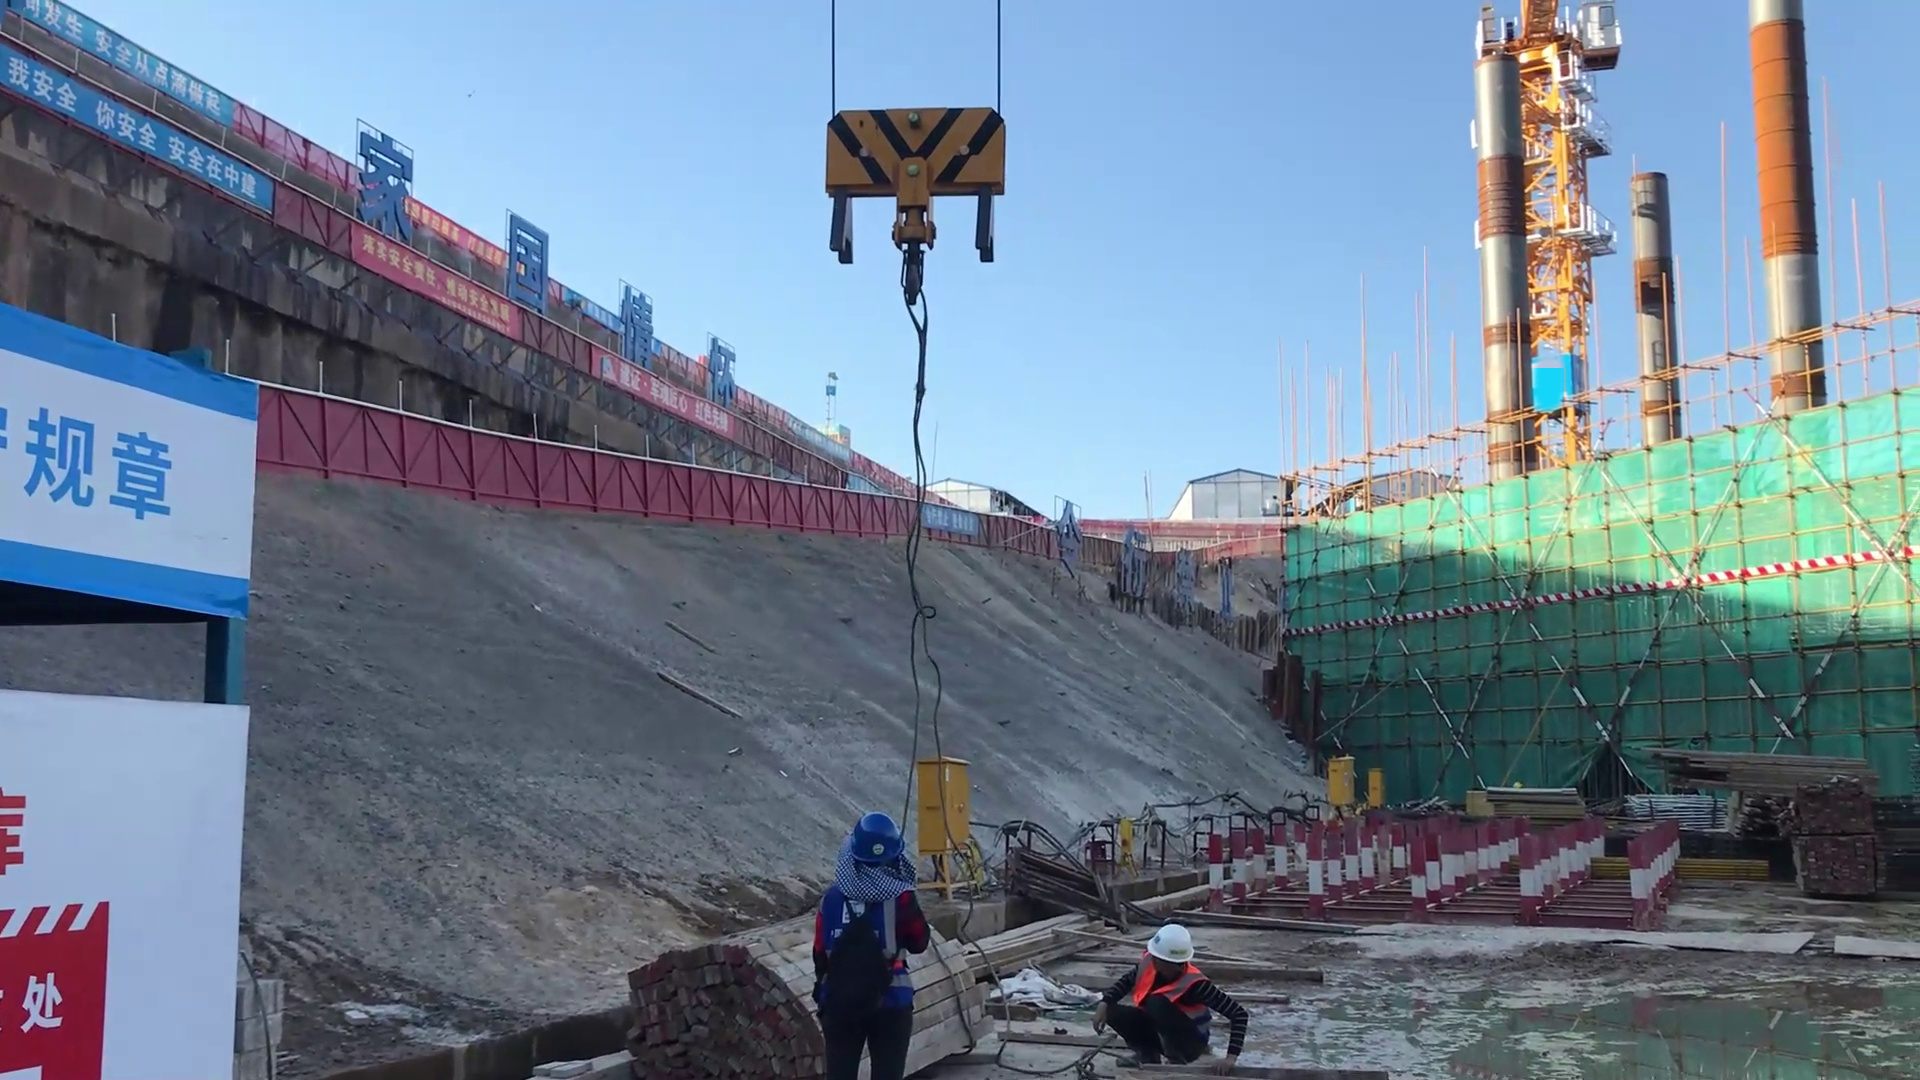board: (618, 924, 792, 1080)
ebox: (914, 741, 975, 872), (1314, 745, 1355, 807), (1359, 764, 1385, 815)
fence: (252, 378, 633, 524), (632, 474, 903, 541), (901, 492, 1063, 560)
helmet: (842, 806, 906, 866), (1148, 915, 1198, 971)
hook: (803, 86, 1021, 260)
person: (797, 808, 929, 1080), (1089, 918, 1254, 1070)
slogan: (1, 369, 252, 604), (1, 68, 278, 235), (328, 220, 532, 355)
vest: (1126, 957, 1214, 1011)
wood: (1626, 735, 1866, 812)
